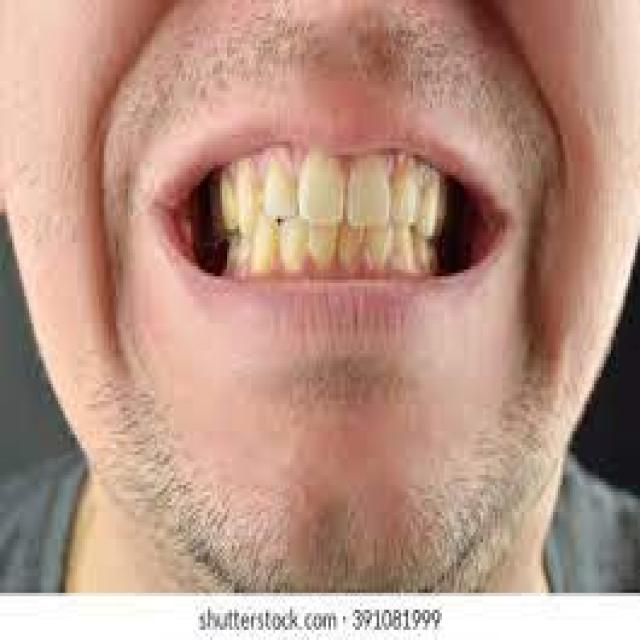tooth: (299, 152, 343, 219), (351, 152, 386, 222), (391, 152, 418, 222), (266, 158, 294, 219), (251, 222, 278, 280), (278, 222, 309, 270), (309, 222, 338, 266), (343, 226, 367, 270), (396, 229, 420, 273), (239, 175, 261, 219), (220, 172, 237, 226), (234, 232, 251, 273), (425, 168, 435, 232), (372, 233, 391, 266), (422, 242, 440, 273), (210, 192, 220, 226), (224, 239, 232, 273), (440, 182, 444, 226)
